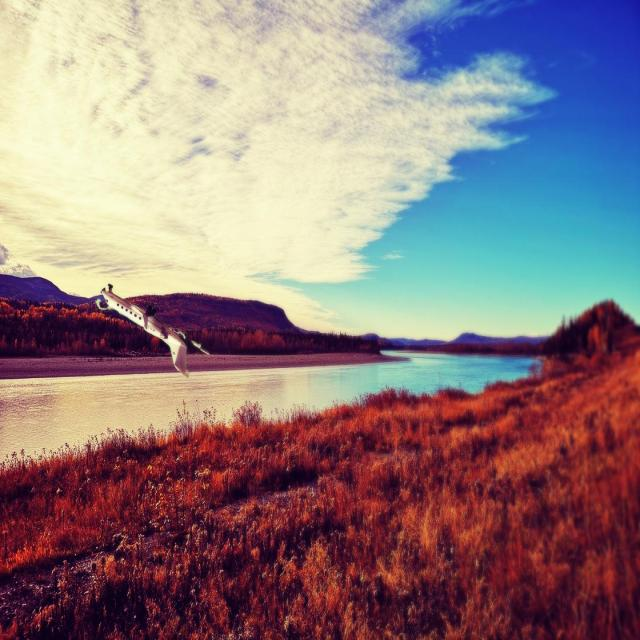airplane: (89, 282, 210, 378)
